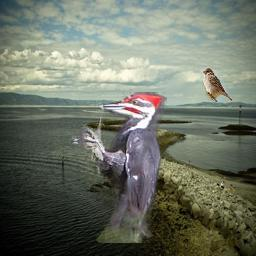Sparrow: (202, 68, 232, 103)
Woodpecker: (69, 93, 167, 244)
